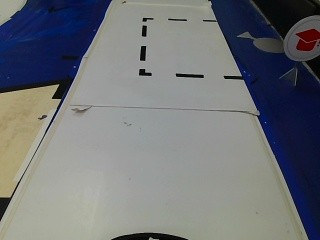school: (280, 15, 320, 64)
